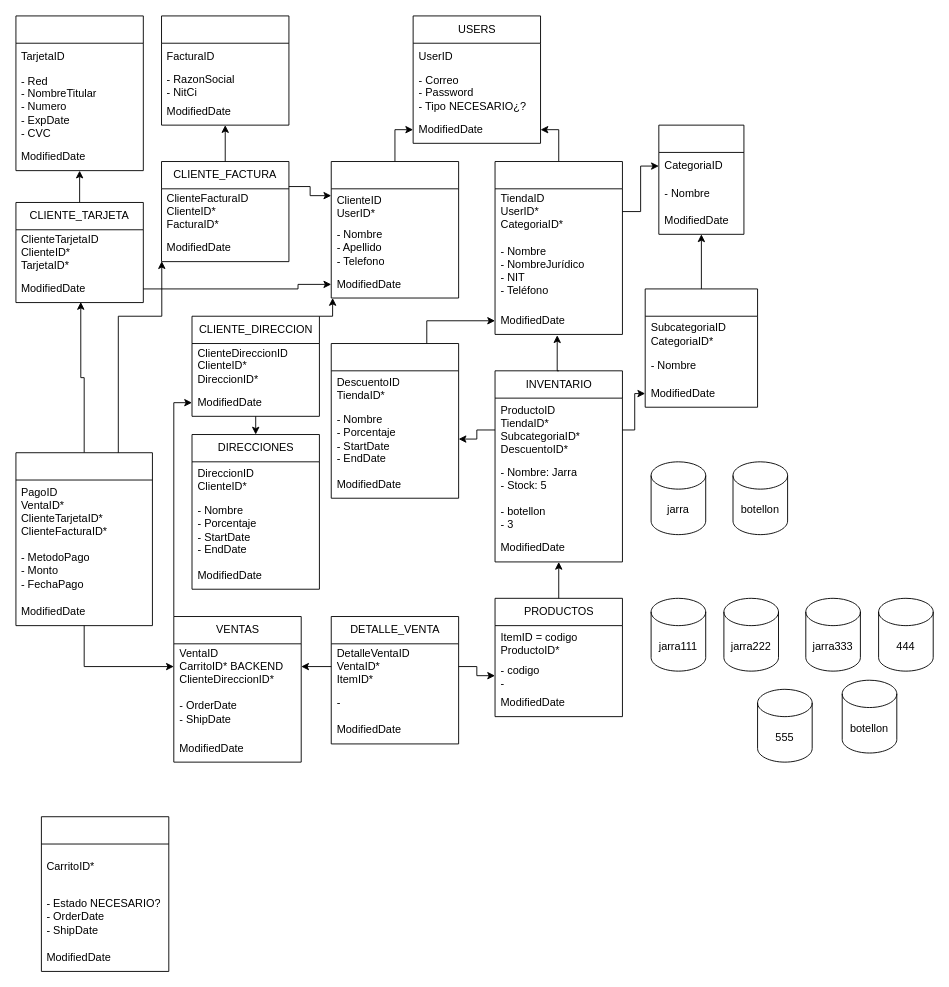
Some shapes in this 949 by 987 pixel diagram are drawn without their labels. Here are the shapes that lost their labels. From the top down, the box of each, then its label:
(161, 15, 289, 125): DATOS_FACTURA
(15, 15, 143, 171): TARJETAS
(658, 124, 744, 234): CATEGORIAS
(330, 161, 459, 298): CLIENTES
(494, 161, 622, 334): TIENDAS
(644, 288, 758, 407): SUBCATEGORIAS
(330, 343, 459, 498): DESCUENTOS
(15, 452, 152, 626): PAGOS
(40, 816, 169, 971): detalle compra
